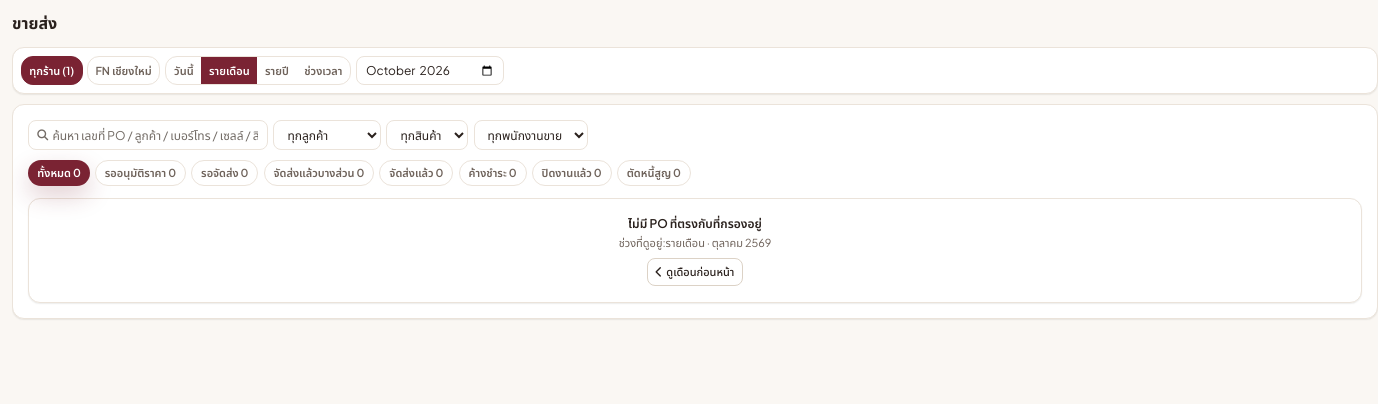
WholesaleList — ไม่มีอะไรให้แสดง › กดดูเดือนก่อนหน้าแล้วเจอของ
Click the button "ดูเดือนก่อนหน้า" at (695, 272), box [647,258,743,286]
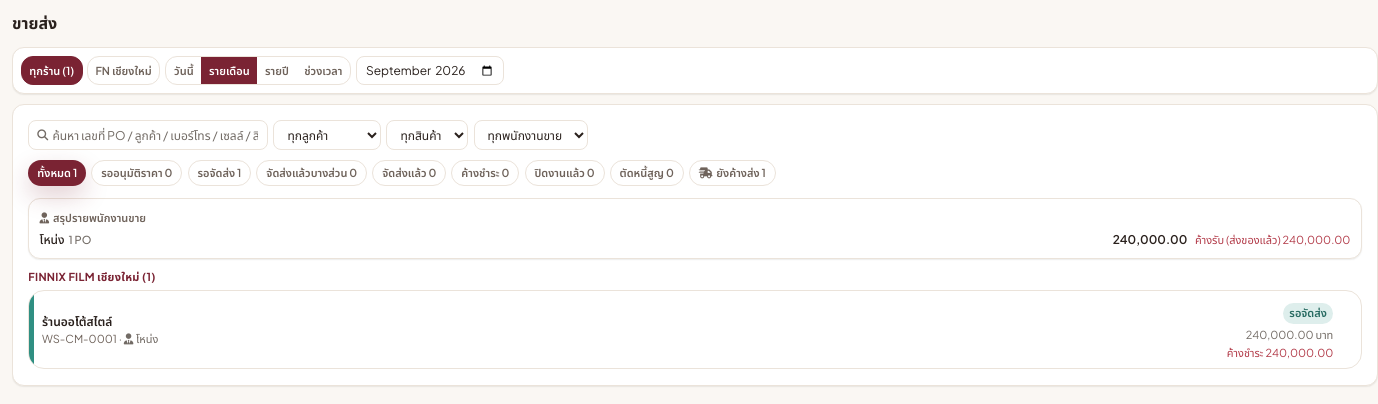
Check: the text "ไม่มี PO ที่ตรงกับที่กรองอยู่" is gone
Check: the text "WS-CM-0001 · โหน่ง" is shown, box [42,331,158,347]
